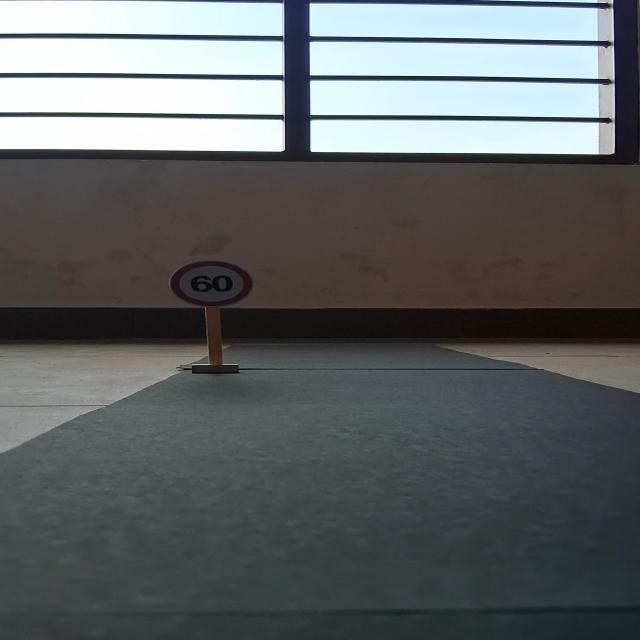Speed60: (169, 258, 257, 310)
